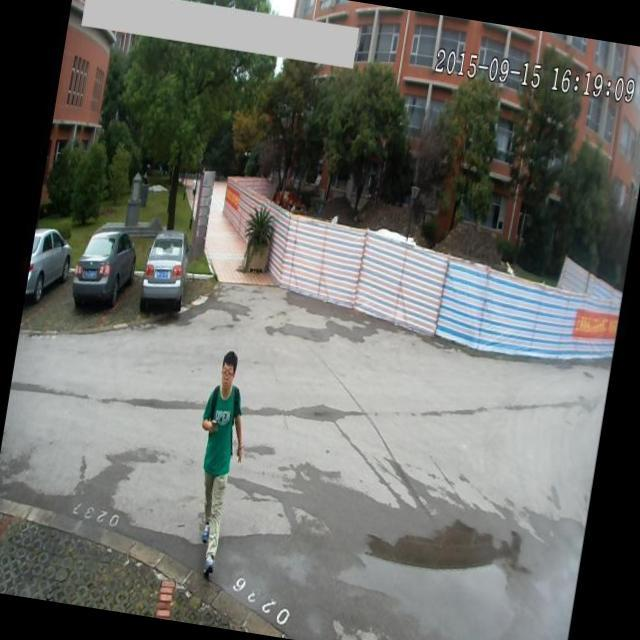person: (178, 343, 263, 579)
